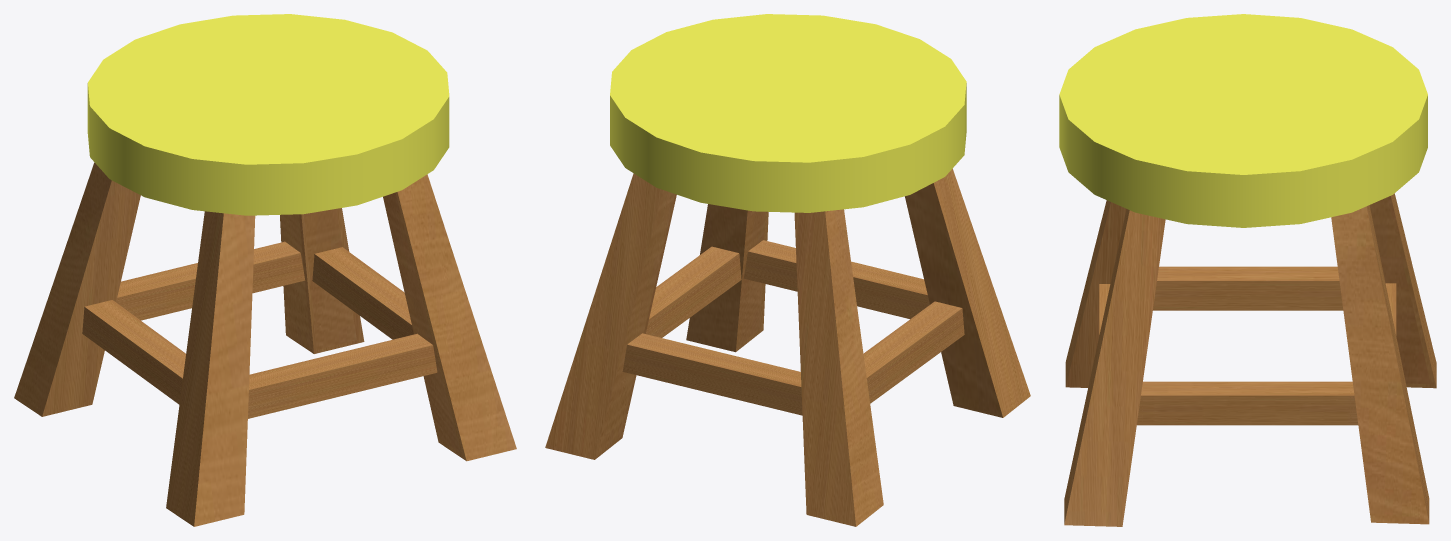
File: dengzi.fbx
The picture shows the model from 3 angles, left to right: view 1: azimuth 30°, elevation 25°; view 2: azimuth 150°, elevation 25°; view 3: azimuth 270°, elevation 25°; orthographic projection. The views are drawn at different scales.
Parts seen in each view (by area): view 1: bandeng1:pCube6, bandeng1:pCylinder3; view 2: bandeng1:pCube6, bandeng1:pCylinder3; view 3: bandeng1:pCylinder3, bandeng1:pCube6.
Part boxes in pixels (box(x1,y1,x2,y2)): bandeng1:pCube6: box(14, 162, 516, 526); bandeng1:pCylinder3: box(87, 14, 449, 215); bandeng1:pCube6: box(545, 168, 1030, 526); bandeng1:pCylinder3: box(610, 14, 966, 212); bandeng1:pCylinder3: box(1059, 14, 1427, 227); bandeng1:pCube6: box(1064, 193, 1436, 526).
Size of the model in its own units: 2 by 1.95 by 1.99.
Materials: 2 (1 with a texture image).
